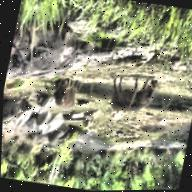boar: (106, 72, 160, 117)
